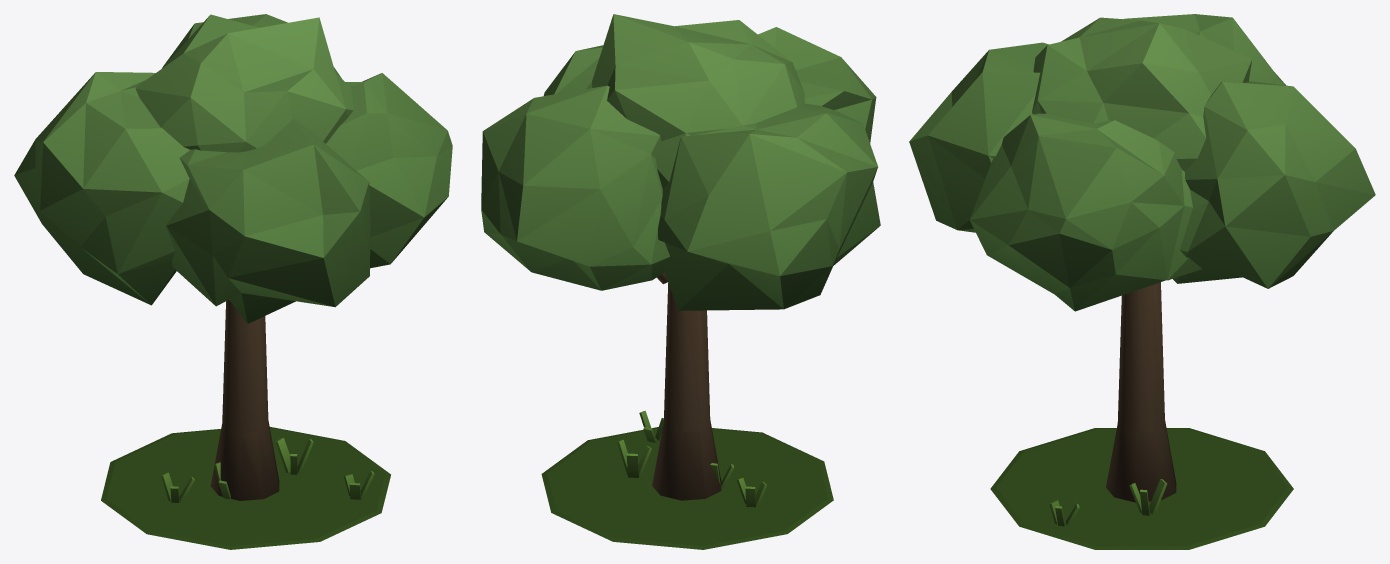
The model's file is lineside-oak.glb.
3 views of the same model, side by side, from view 1: azimuth 30°, elevation 25°; view 2: azimuth 150°, elevation 25°; view 3: azimuth 270°, elevation 25° (orthographic). The views are drawn at different scales.
Parts seen in each view (by area): view 1: lineside_oak; view 2: lineside_oak; view 3: lineside_oak.
Boxes of the visible parts, left/top/right/bottom form: lineside_oak: left=14, top=14, right=452, bottom=549; lineside_oak: left=481, top=14, right=880, bottom=549; lineside_oak: left=909, top=14, right=1375, bottom=549.
Bounding box in the file's own units: 3.37 × 4.21 × 3.84.
